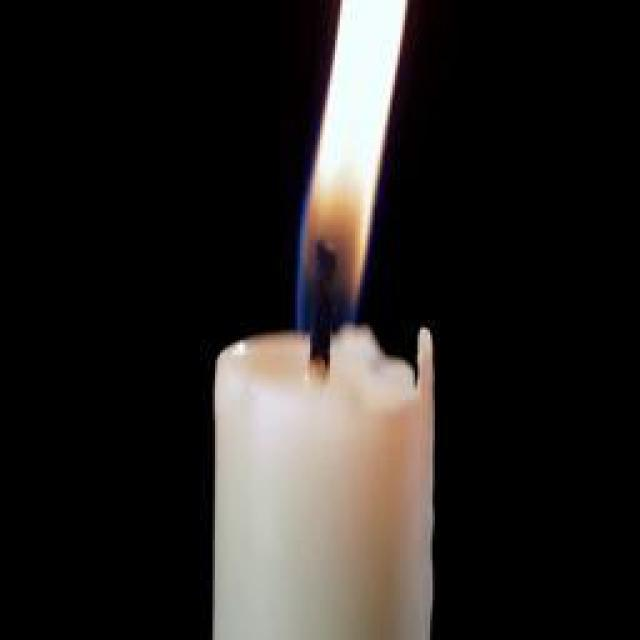Fire: (296, 0, 409, 335)
